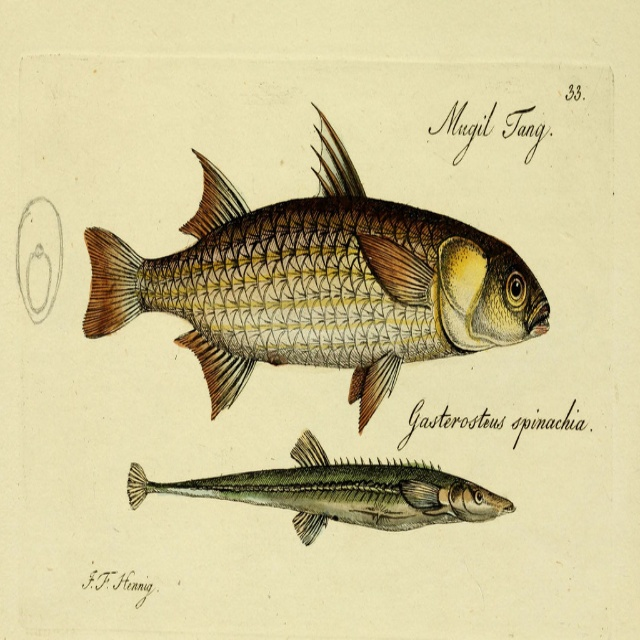Fish: (80, 100, 551, 439), (122, 417, 522, 548)
